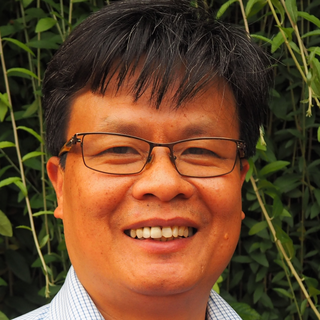eye: (171, 141, 228, 165), (93, 140, 142, 167)
